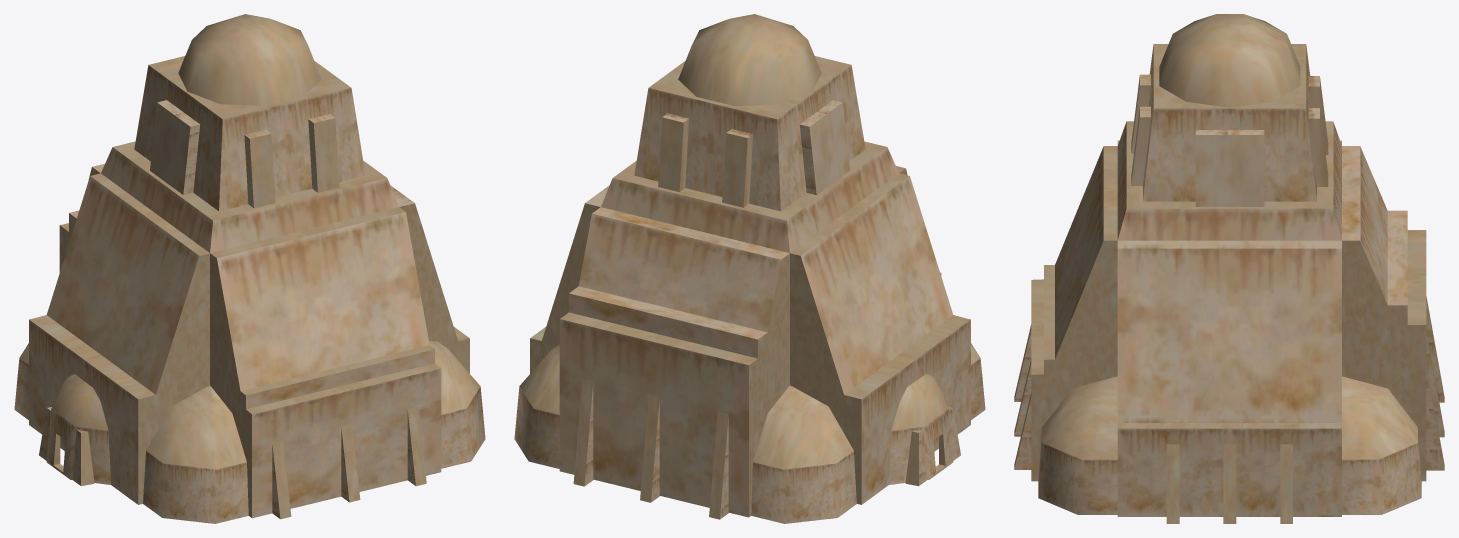
Rendered from thm_tato_imprv_building_s11_r0_mesh_l2.fbx.
3 views of the same model, side by side, from view 1: azimuth 30°, elevation 25°; view 2: azimuth 150°, elevation 25°; view 3: azimuth 270°, elevation 25° (orthographic). The views are drawn at different scales.
Visible parts, largest first — view 1: mesh_node; view 2: mesh_node; view 3: mesh_node.
Part boxes in pixels (x1,y1,x2,y2): mesh_node: (14, 14, 485, 523); mesh_node: (514, 14, 985, 523); mesh_node: (1014, 14, 1444, 523).
Size of the model in its own units: 38.73 by 40.11 by 37.88.
1 material, 1 textured.
